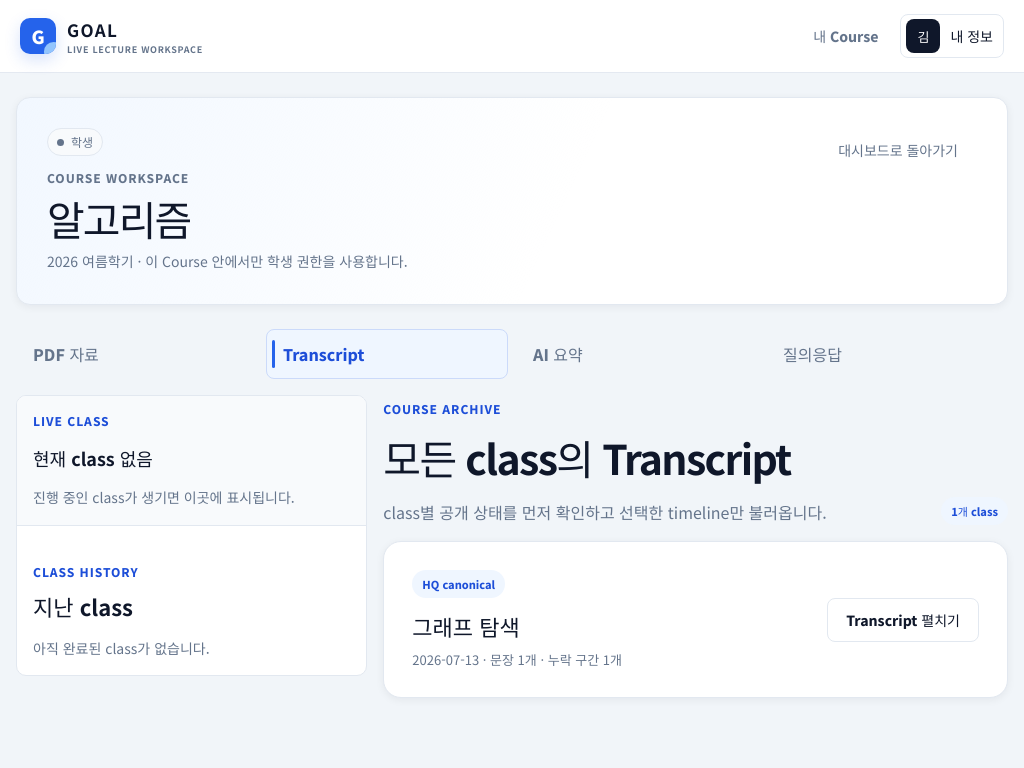
Test: Course Transcript archive › loads a class timeline only after the user expands it
Check: the text "HQ canonical" is shown, box [412,570,505,598]
Click the button "Transcript 펼치기" at (903, 620), box [827,598,979,642]
(page scrolled)
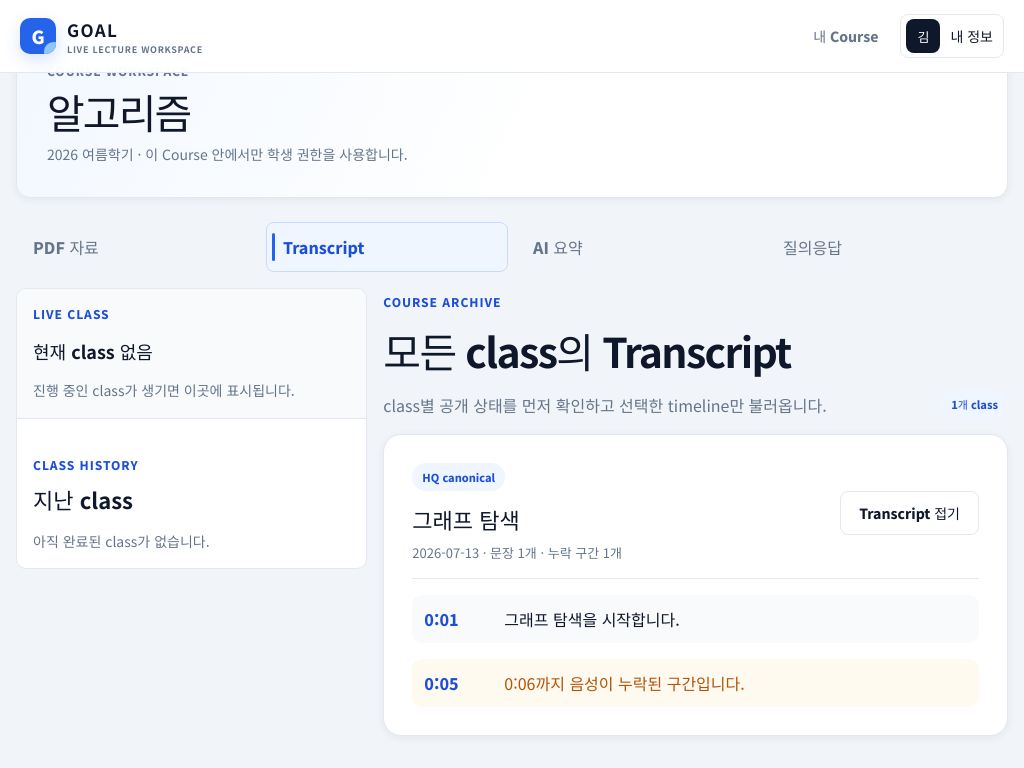
Check: the text "그래프 탐색을 시작합니다." is shown, box [504,607,680,631]
Check: the text "0:06까지 음성이 누락된 구간입니다." is shown, box [504,671,745,695]
